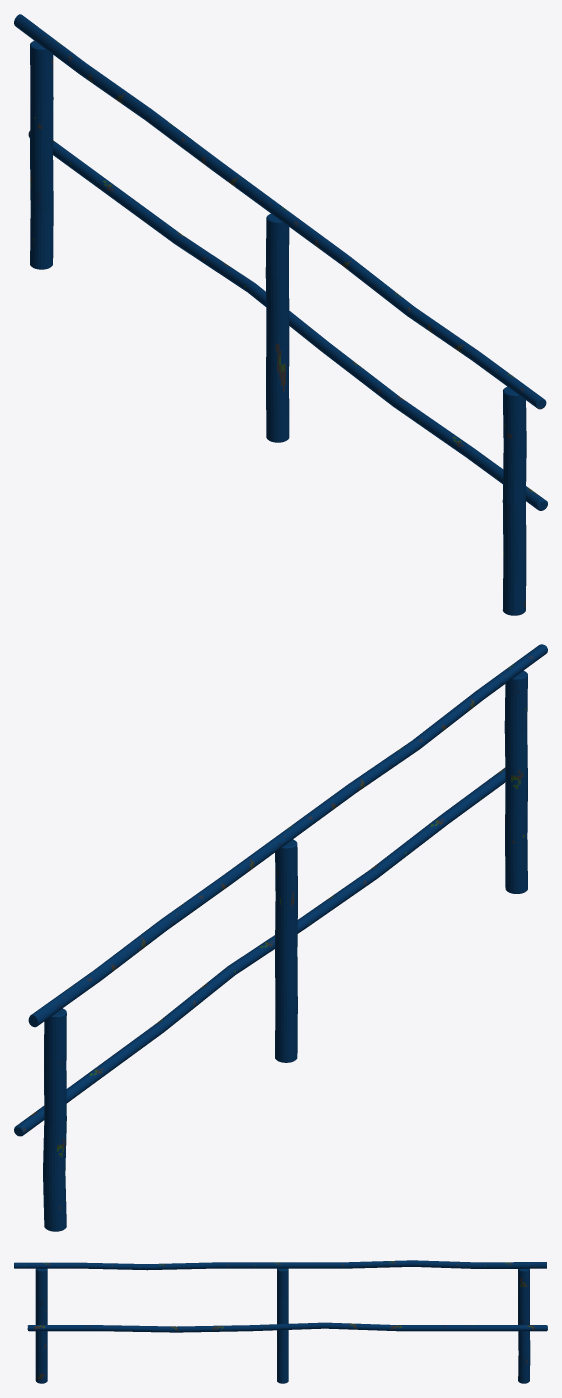
File: fence.obj
3 renders of one model, top to bottom at view 1: azimuth 30°, elevation 25°; view 2: azimuth 150°, elevation 25°; view 3: azimuth 270°, elevation 25°, orthographic. The views are drawn at different scales.
Visible parts, largest first — view 1: Цилиндр.003, Цилиндр.004, Цилиндр.002, Цилиндр, Цилиндр.001; view 2: Цилиндр.003, Цилиндр.004, Цилиндр.002, Цилиндр.001, Цилиндр; view 3: Цилиндр.003, Цилиндр.004, Цилиндр.001, Цилиндр.002, Цилиндр.
Boxes of the visible parts, bbox=[...] form: Цилиндр.003: bbox=[14, 14, 546, 409]; Цилиндр.004: bbox=[28, 130, 547, 510]; Цилиндр.002: bbox=[30, 40, 53, 269]; Цилиндр: bbox=[265, 213, 289, 442]; Цилиндр.001: bbox=[502, 386, 526, 615]; Цилиндр.003: bbox=[28, 644, 547, 1027]; Цилиндр.004: bbox=[14, 767, 505, 1136]; Цилиндр.002: bbox=[43, 1008, 66, 1231]; Цилиндр.001: bbox=[504, 670, 527, 893]; Цилиндр: bbox=[275, 839, 297, 1062]; Цилиндр.003: bbox=[14, 1260, 546, 1270]; Цилиндр.004: bbox=[27, 1322, 547, 1332]; Цилиндр.001: bbox=[35, 1268, 47, 1383]; Цилиндр.002: bbox=[518, 1268, 530, 1383]; Цилиндр: bbox=[277, 1268, 288, 1383].
Size of the model in its own units: 3.11 by 22.51 by 90.28.
